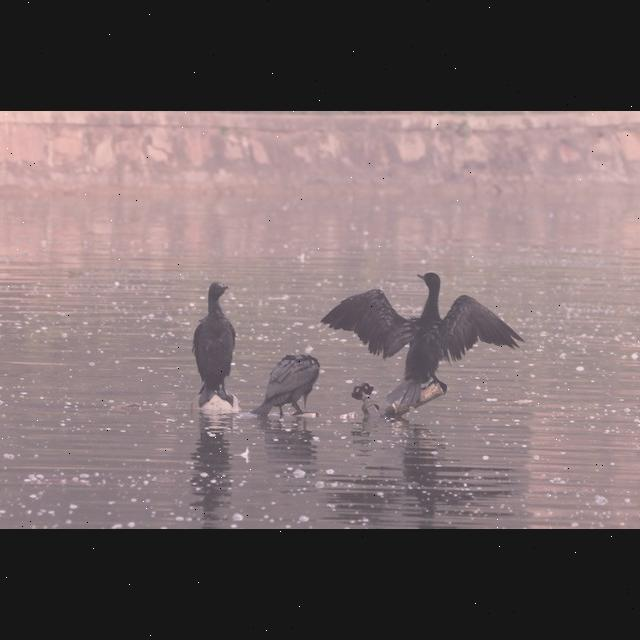cormorant: (326, 265, 524, 407), (188, 278, 240, 407), (253, 349, 323, 421)
